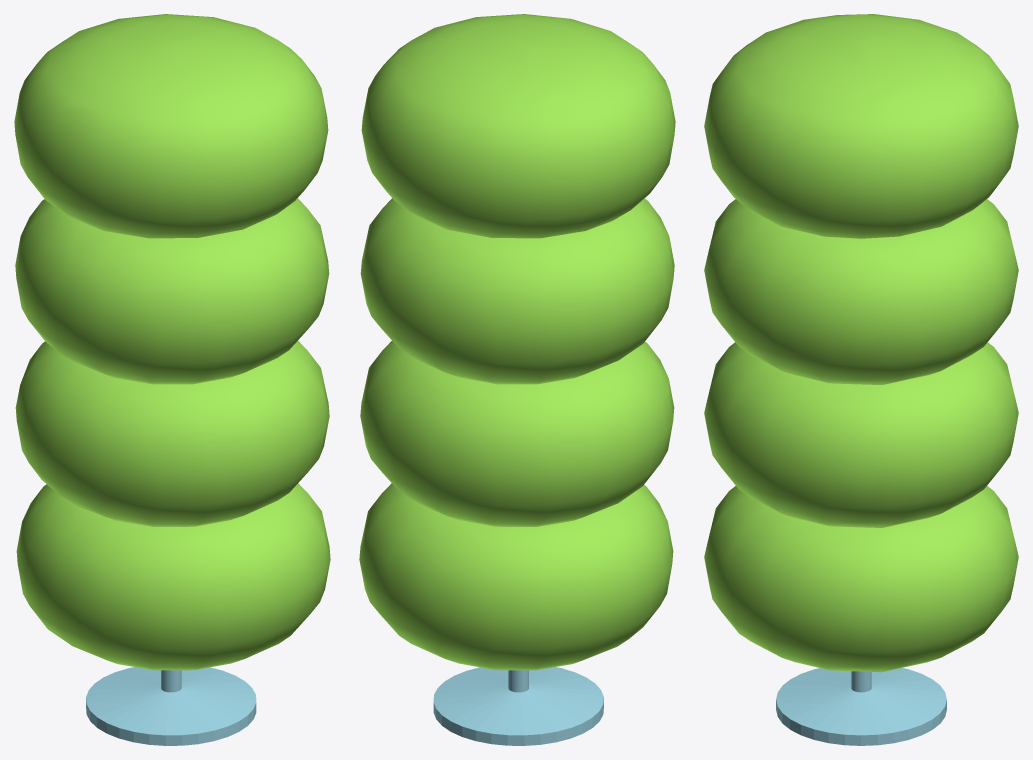
Rendered from 2obstacle.fbx.
3 views of the same model, side by side, from view 1: azimuth 30°, elevation 25°; view 2: azimuth 150°, elevation 25°; view 3: azimuth 270°, elevation 25° (orthographic).
Visible parts, largest first — view 1: Sphere.005, Sphere.002, Sphere.004, Sphere.003, Cylinder.002; view 2: Sphere.005, Sphere.002, Sphere.004, Sphere.003, Cylinder.002; view 3: Sphere.005, Sphere.002, Sphere.004, Sphere.003, Cylinder.002.
Part boxes in pixels (left/top/right/bottom): Sphere.005: left=14, top=14, right=328, bottom=238; Sphere.002: left=15, top=198, right=329, bottom=384; Sphere.004: left=16, top=483, right=330, bottom=670; Sphere.003: left=15, top=341, right=329, bottom=526; Cylinder.002: left=86, top=667, right=256, bottom=745; Sphere.005: left=361, top=14, right=675, bottom=238; Sphere.002: left=360, top=198, right=674, bottom=384; Sphere.004: left=359, top=483, right=673, bottom=670; Sphere.003: left=360, top=341, right=674, bottom=526; Cylinder.002: left=433, top=667, right=603, bottom=745; Sphere.005: left=704, top=14, right=1018, bottom=238; Sphere.002: left=704, top=199, right=1018, bottom=384; Sphere.004: left=704, top=486, right=1018, bottom=672; Sphere.003: left=704, top=342, right=1018, bottom=527; Cylinder.002: left=776, top=668, right=946, bottom=745.
Size of the model in its own units: 6.4 by 14.88 by 6.35.
